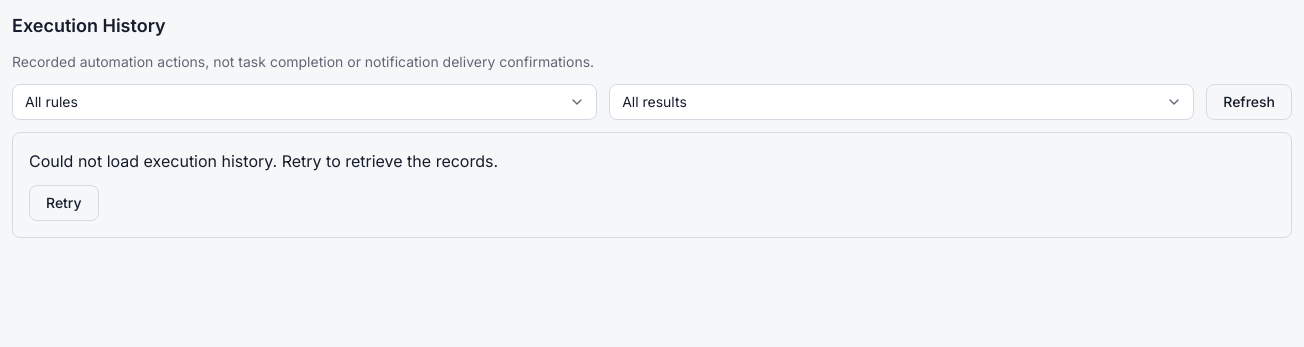
Test: automation execution history › distinguishes request failure from empty results and can retry
expect the message reads "Could not load execution history. Retry to retrieve the records.": met, box [29,151,498,171]
Click the button "Retry": [64, 203] box [29,185,99,221]
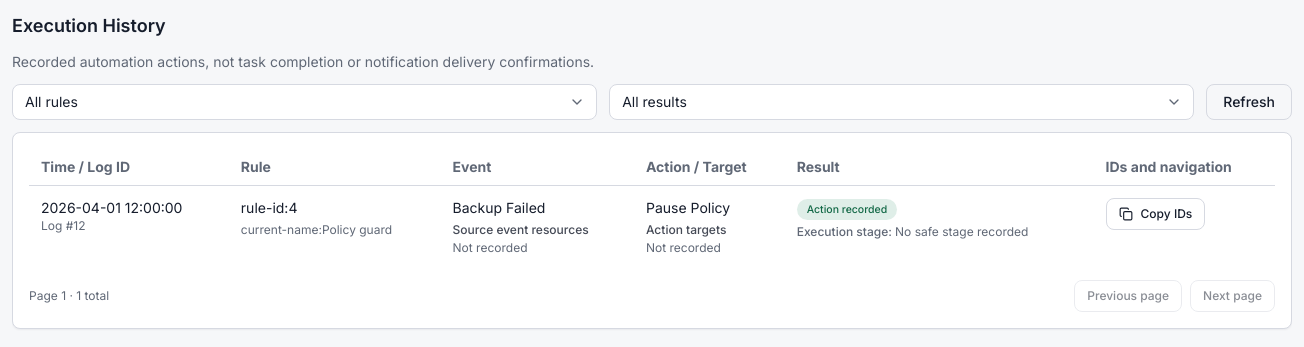
expect the message "Could not load execution history. Retry to retrieve the records." is gone: met
